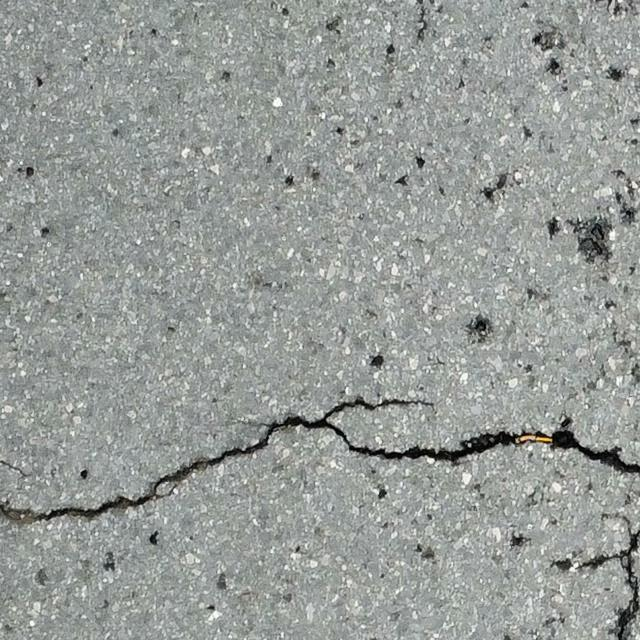LongitudinalCrack: (586, 517, 640, 640)
TransverseCrack: (1, 397, 640, 528)
